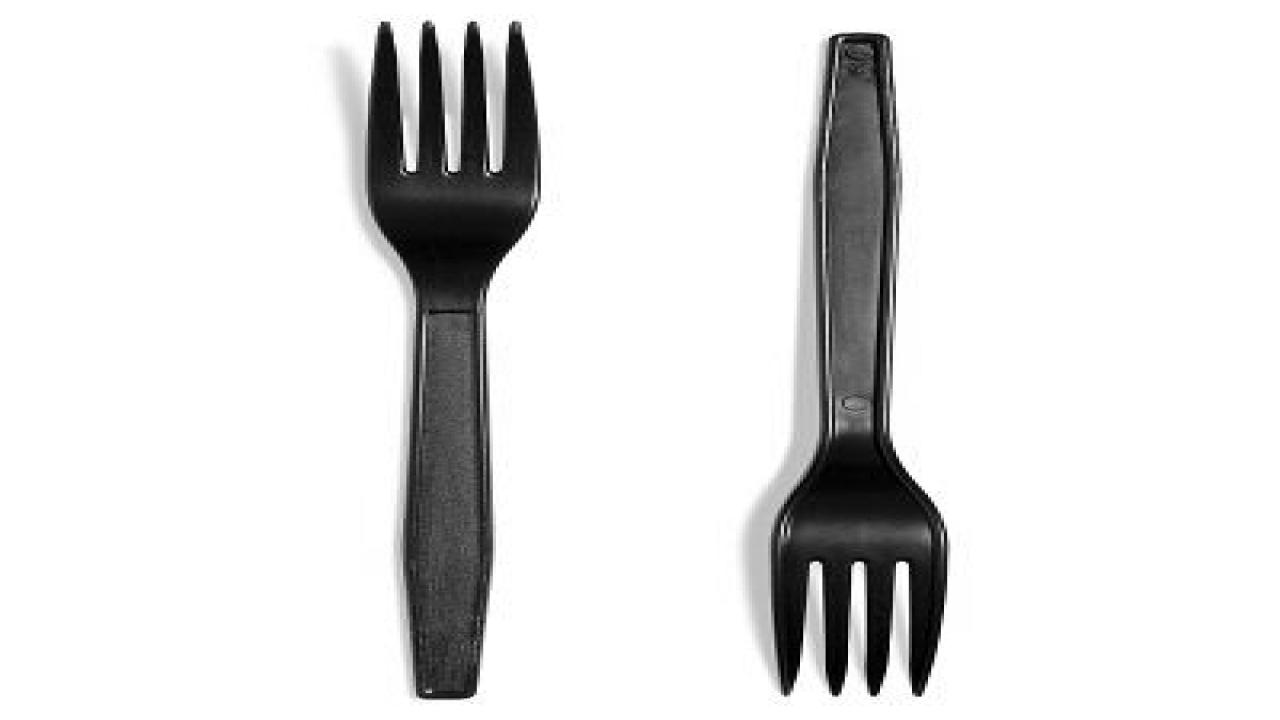fork: (362, 18, 540, 698), (768, 30, 947, 696)
